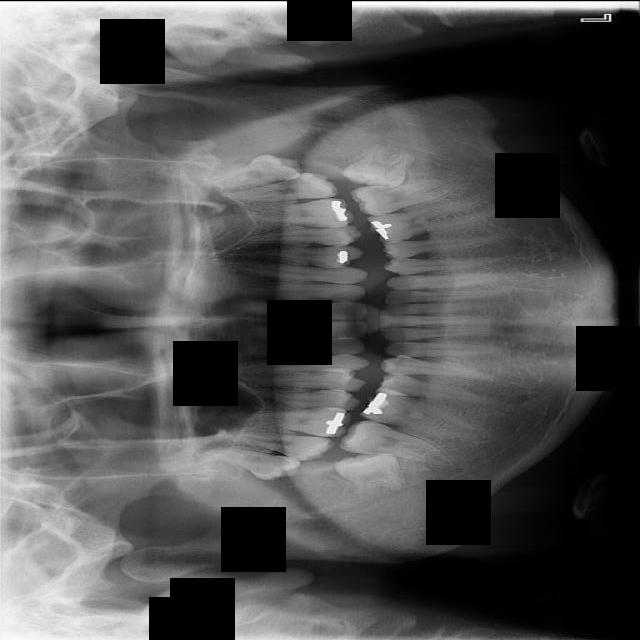3M ESPE Implant: (192, 440, 302, 484)
52: (358, 378, 418, 434), (298, 401, 353, 440), (366, 207, 417, 246), (309, 195, 355, 230), (308, 243, 365, 268)
BioHorizons Implant: (209, 170, 339, 206)
BioLife Implant: (189, 149, 305, 193)
Biomet 3i Implant: (339, 132, 413, 195)
Blue Sky Bio Implant: (349, 174, 468, 218)
Caries: (209, 422, 336, 464)
Implant: (338, 415, 459, 468)
Keystone Dental Implant: (333, 443, 408, 507)
